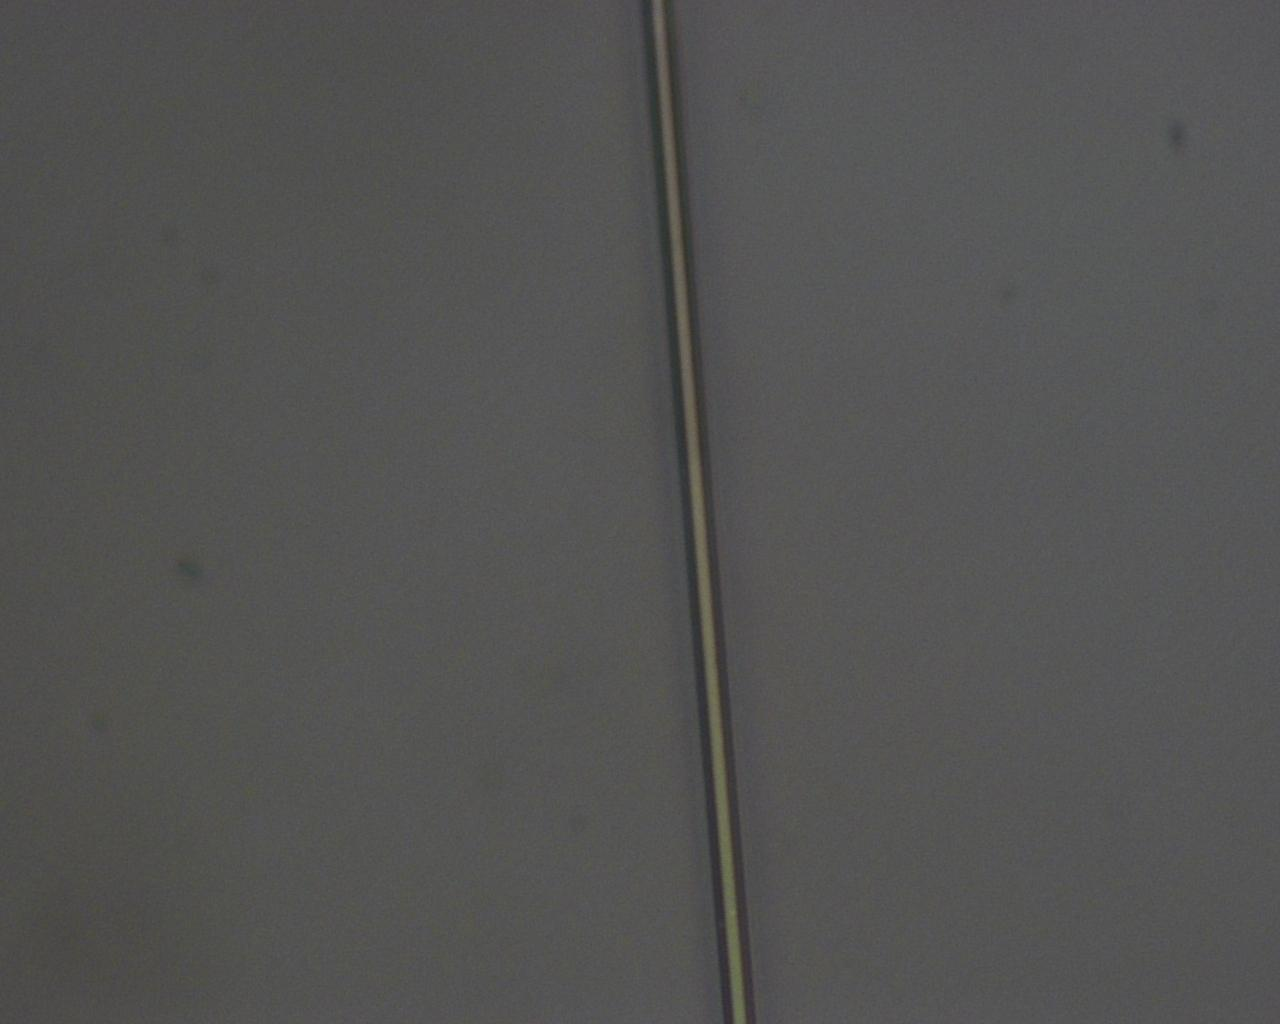fiber: (597, 0, 764, 675), (719, 675, 785, 1024)
